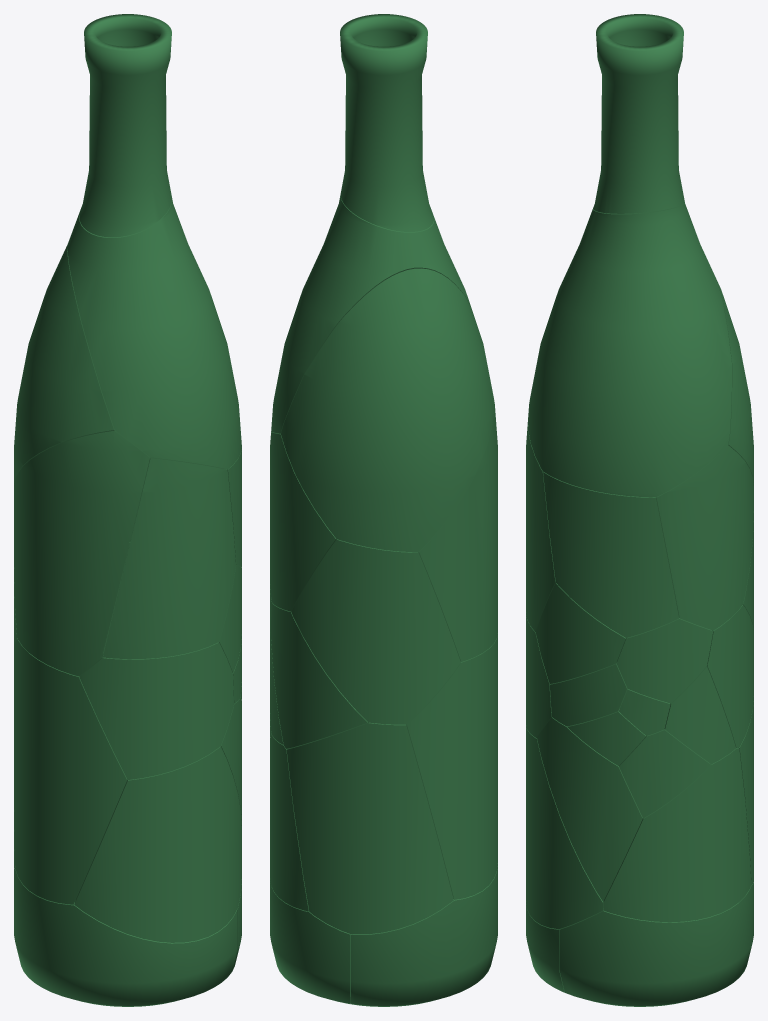
Rendered from bottle_wine_shards.glb.
3 renders of one model, left to right at view 1: azimuth 30°, elevation 25°; view 2: azimuth 150°, elevation 25°; view 3: azimuth 270°, elevation 25°, orthographic.
Parts seen in each view (by area): view 1: Shard_00, Shard_05, Shard_07, Shard_04, Shard_09, Shard_03, Shard_01, Shard_13, Shard_02, Shard_17, Shard_16, Shard_14; view 2: Shard_02, Shard_08, Shard_10, Shard_03, Shard_04, Shard_00, Shard_01, Shard_05, Shard_15, Shard_12, Shard_06, Shard_11 (+1 smaller); view 3: Shard_00, Shard_11, Shard_03, Shard_06, Shard_14, Shard_12, Shard_16, Shard_07, Shard_18, Shard_17, Shard_20, Shard_15 (+9 smaller).
Boxes of the visible parts, x1=… form: Shard_00: x1=67, y1=198, x2=241, y2=469; Shard_05: x1=14, y1=430, x2=149, y2=676; Shard_07: x1=74, y1=746, x2=241, y2=942; Shard_04: x1=14, y1=638, x2=127, y2=904; Shard_09: x1=103, y1=458, x2=235, y2=659; Shard_03: x1=79, y1=14, x2=171, y2=237; Shard_01: x1=14, y1=868, x2=237, y2=1006; Shard_13: x1=79, y1=642, x2=233, y2=779; Shard_02: x1=14, y1=243, x2=116, y2=485; Shard_17: x1=219, y1=565, x2=241, y2=672; Shard_16: x1=221, y1=699, x2=241, y2=825; Shard_14: x1=226, y1=447, x2=241, y2=567; Shard_02: x1=281, y1=268, x2=493, y2=552; Shard_08: x1=286, y1=722, x2=453, y2=934; Shard_10: x1=291, y1=539, x2=460, y2=724; Shard_03: x1=340, y1=14, x2=433, y2=231; Shard_04: x1=406, y1=633, x2=497, y2=899; Shard_00: x1=271, y1=195, x2=474, y2=433; Shard_01: x1=350, y1=863, x2=497, y2=1006; Shard_05: x1=418, y1=394, x2=497, y2=661; Shard_15: x1=271, y1=603, x2=367, y2=748; Shard_12: x1=270, y1=432, x2=336, y2=611; Shard_06: x1=270, y1=879, x2=350, y2=1004; Shard_11: x1=270, y1=735, x2=308, y2=911; Shard_00: x1=528, y1=202, x2=731, y2=497; Shard_11: x1=603, y1=748, x2=751, y2=922; Shard_03: x1=593, y1=14, x2=684, y2=213; Shard_06: x1=559, y1=883, x2=753, y2=1006; Shard_14: x1=543, y1=472, x2=678, y2=637; Shard_12: x1=656, y1=445, x2=753, y2=630; Shard_16: x1=537, y1=717, x2=642, y2=901; Shard_07: x1=526, y1=725, x2=603, y2=929; Shard_18: x1=616, y1=618, x2=713, y2=703; Shard_17: x1=535, y1=583, x2=626, y2=683; Shard_20: x1=619, y1=729, x2=710, y2=818; Shard_15: x1=707, y1=605, x2=753, y2=747.
Bounding box in the file's own units: 0.075 × 0.34 × 0.075.
